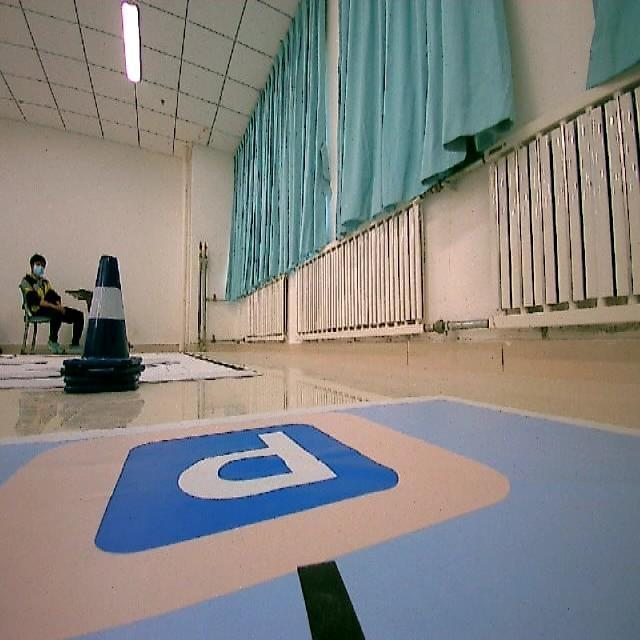obstacle: (62, 252, 150, 401)
